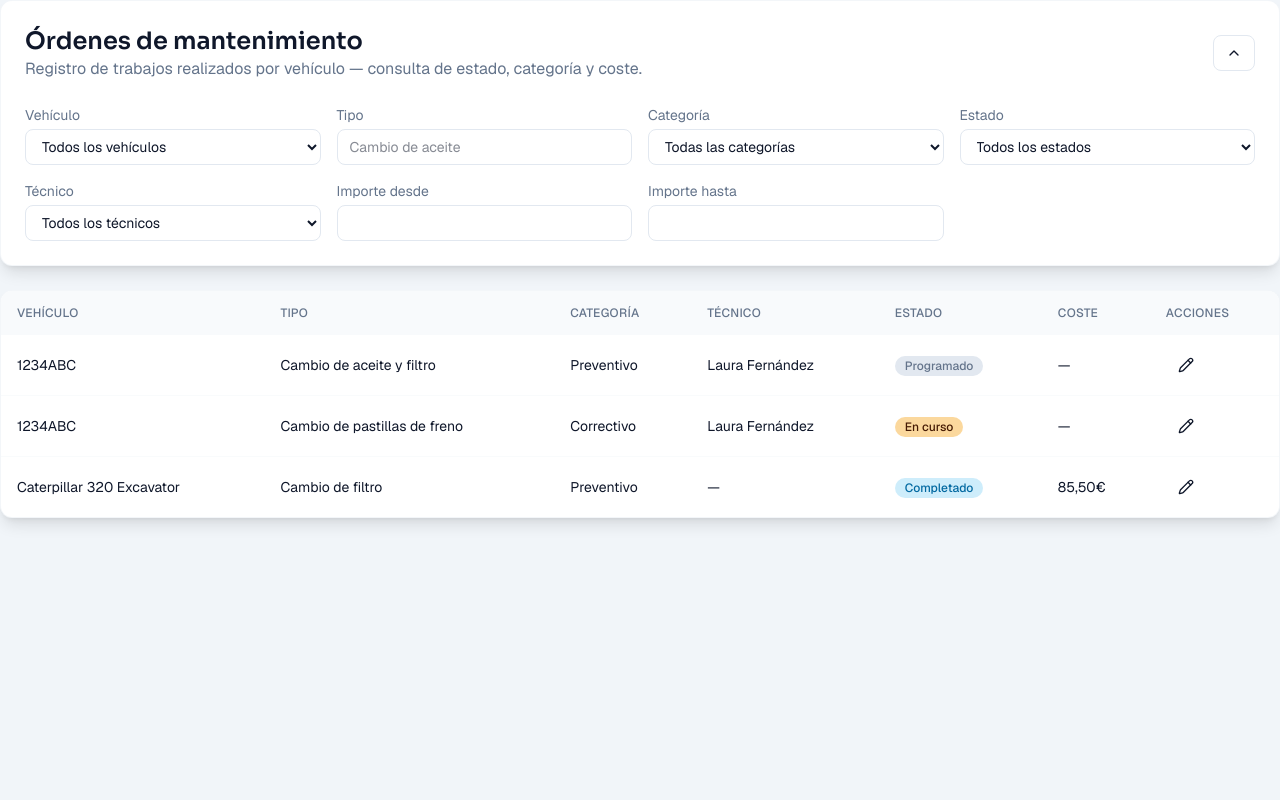
MaintenanceOrders › edits a maintenance order via the modal and reflects the change in the table
Click the button named "editar orden" in the row of "Cambio de aceite y filtro".
click(1186, 365)  # box top-left (1166, 347), bottom-right (1206, 383)
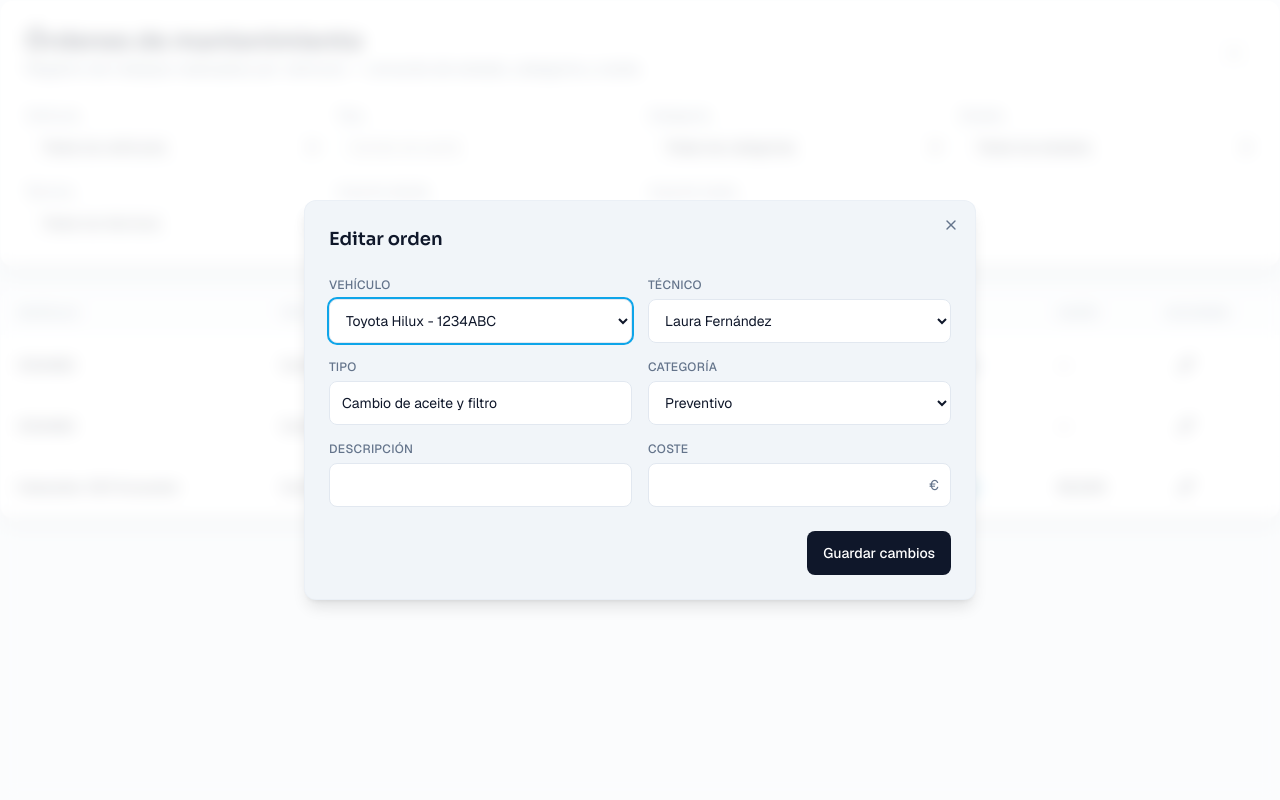
Check: the heading "Editar orden" is shown, box top-left (329, 228), bottom-right (443, 250)
Check: the field labelled "Tipo" holds "Cambio de aceite y filtro"
Replace the text in the field labelled "Tipo" with "Cambio de aceite sintético" at (480, 403), box top-left (329, 381), bottom-right (632, 425)
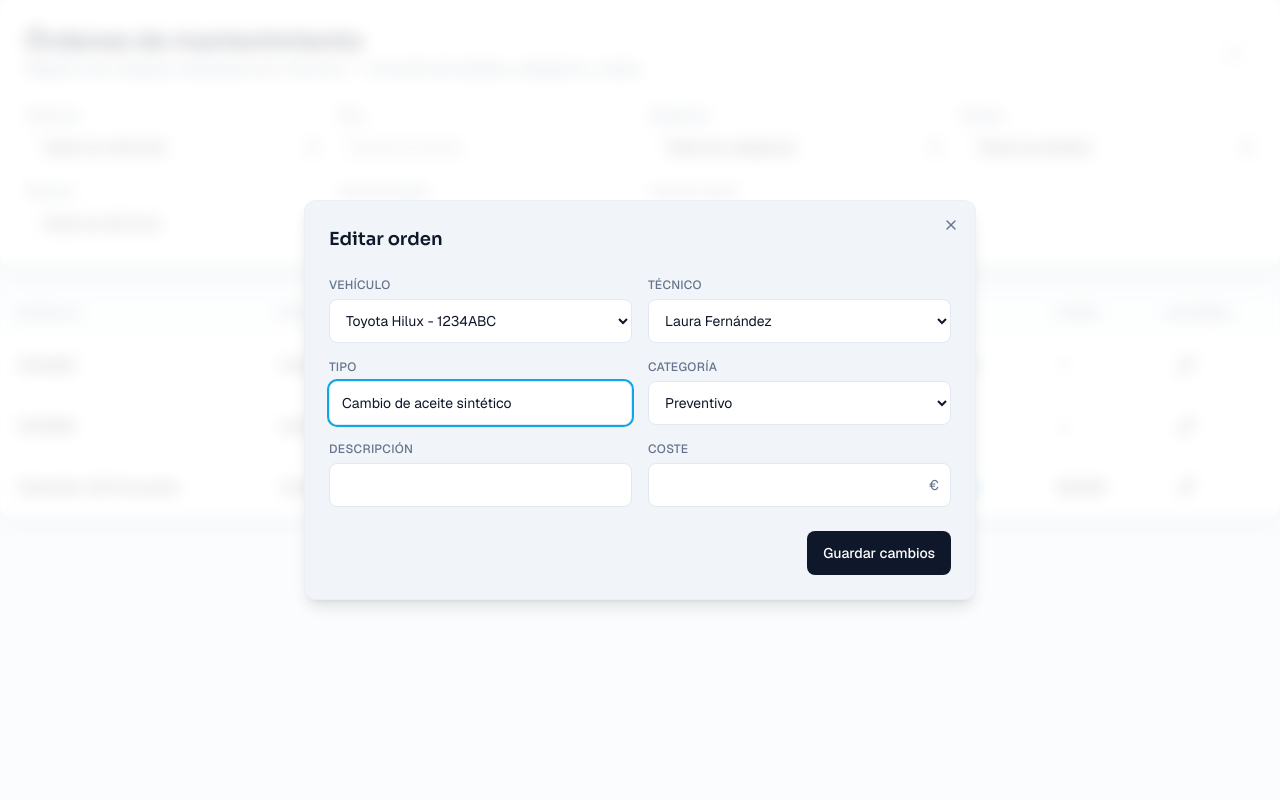
Click the button "Guardar cambios".
click(879, 553)  # box top-left (807, 531), bottom-right (951, 575)
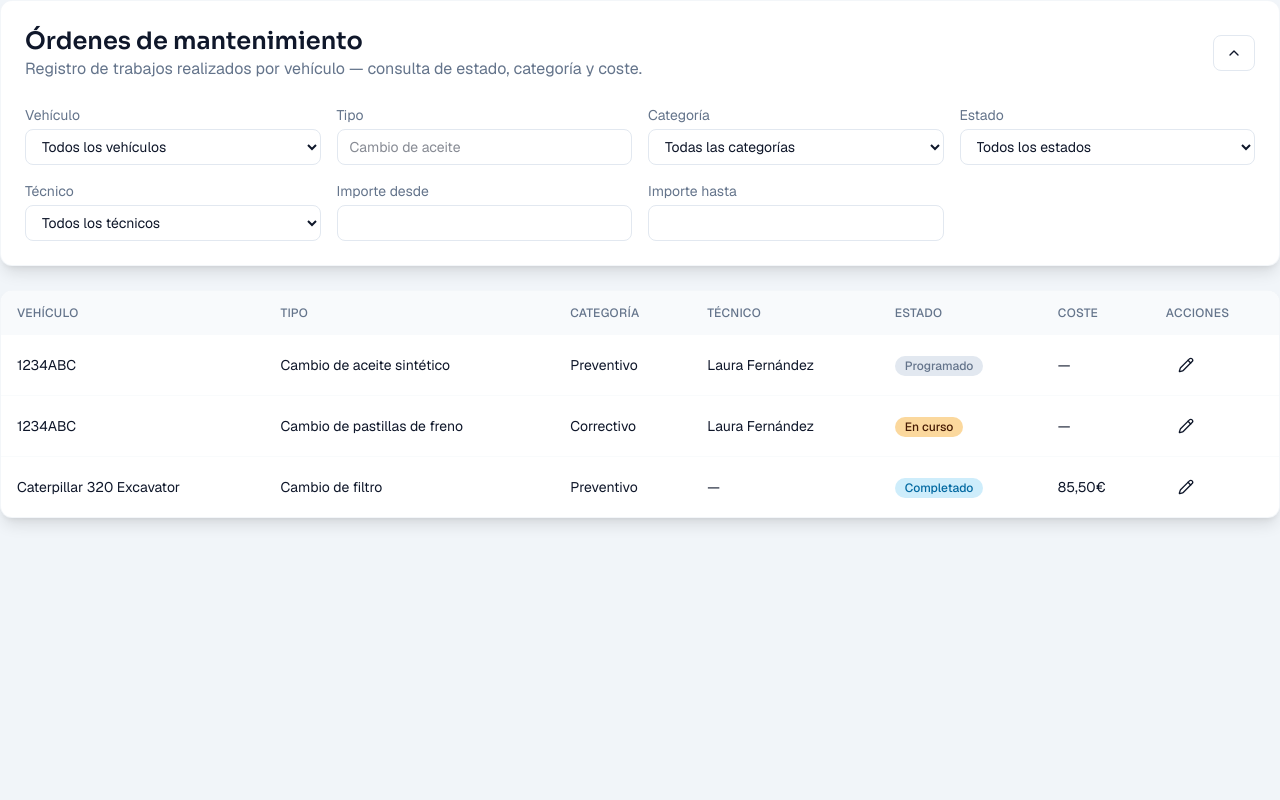
Check: the text "Cambio de aceite sintético" is shown, box top-left (265, 335), bottom-right (554, 396)
Check: the text "Cambio de aceite y filtro" is gone
